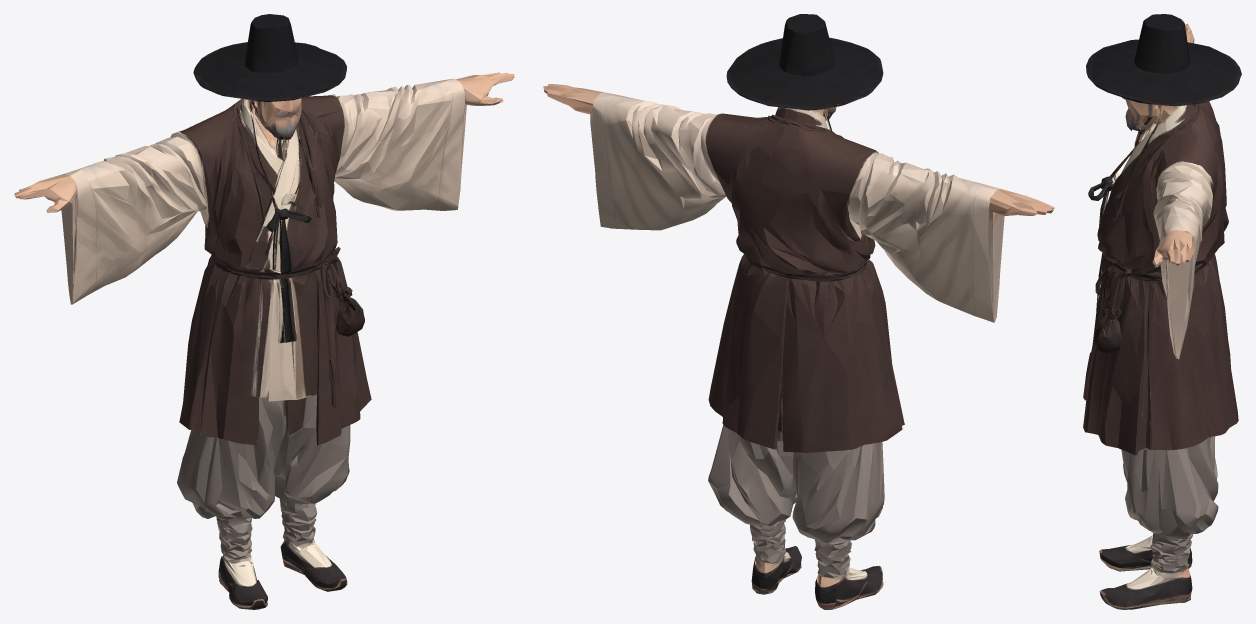
3 views of the same model, side by side, from view 1: azimuth 30°, elevation 25°; view 2: azimuth 150°, elevation 25°; view 3: azimuth 270°, elevation 25° (orthographic). The views are drawn at different scales.
Bounding box in the file's own units: 1.77 × 1.9 × 0.4846.
Materials: 1 (1 with a texture image).
